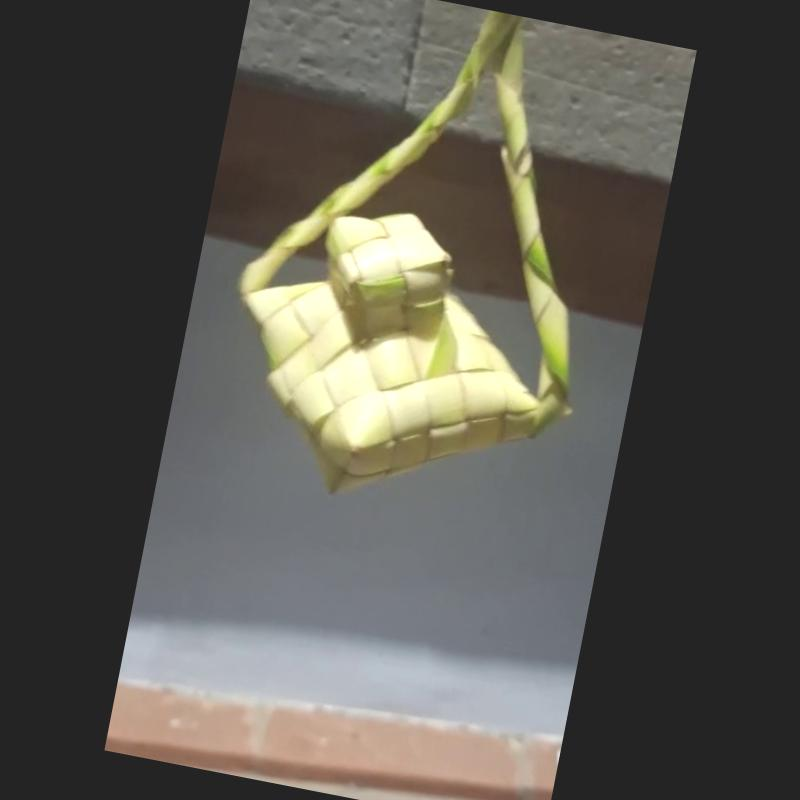Tipat Gong: (238, 9, 569, 498)
